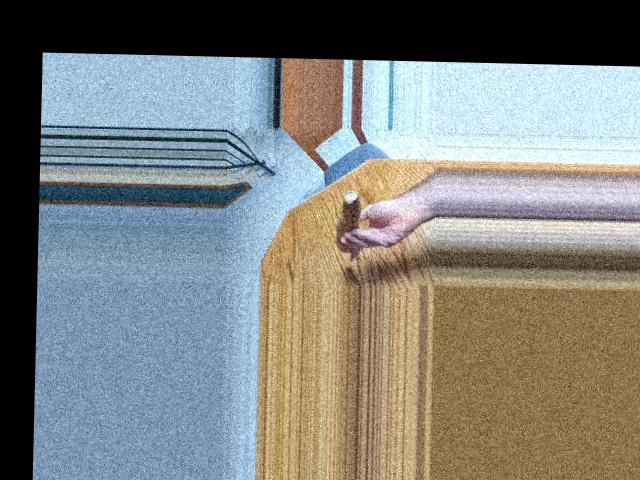sweet_potato: (332, 192, 367, 245)
